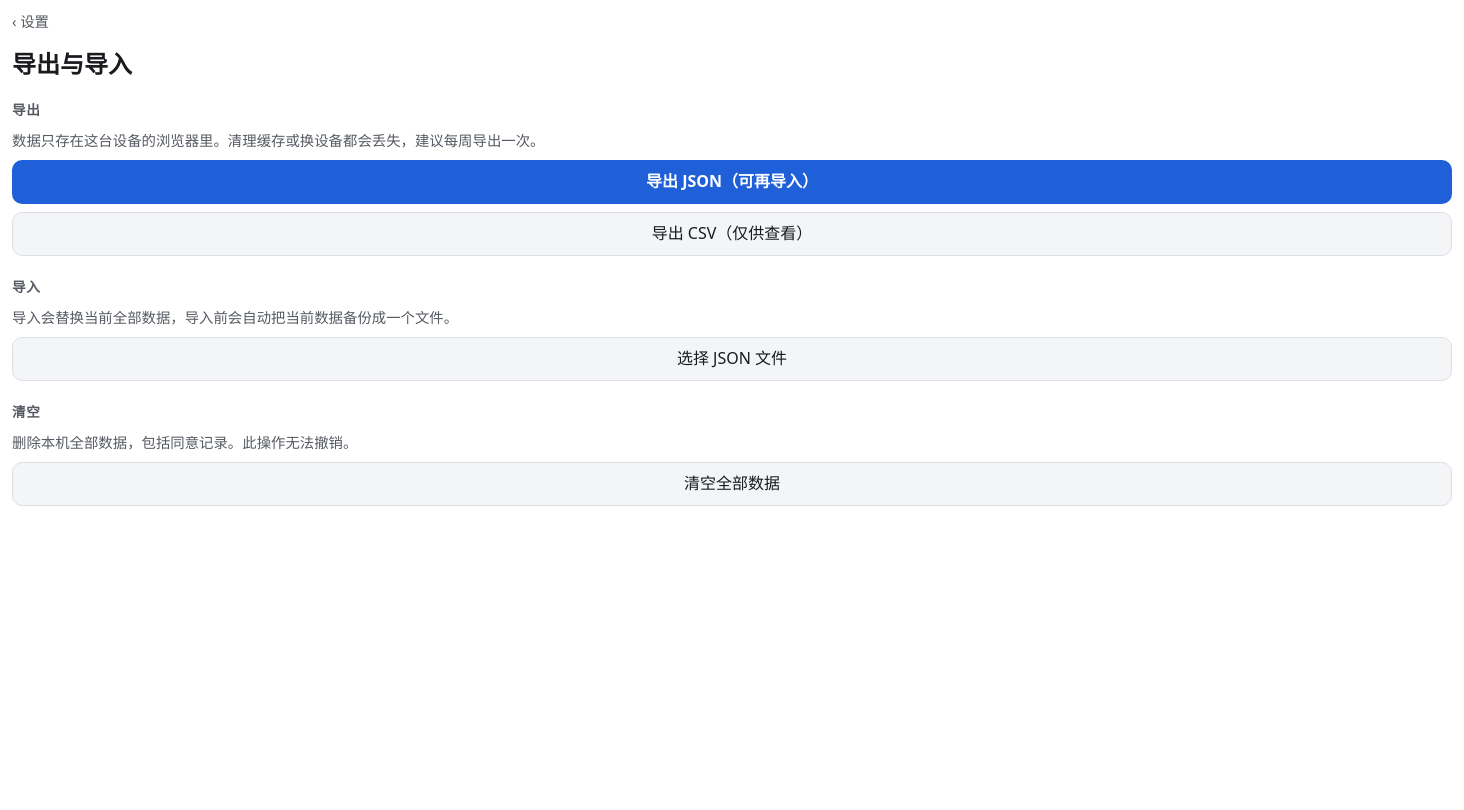
清空 › 确认后清空并告知结果
Click the button "清空全部数据".
click(732, 484)  # box [12,462,1452,506]
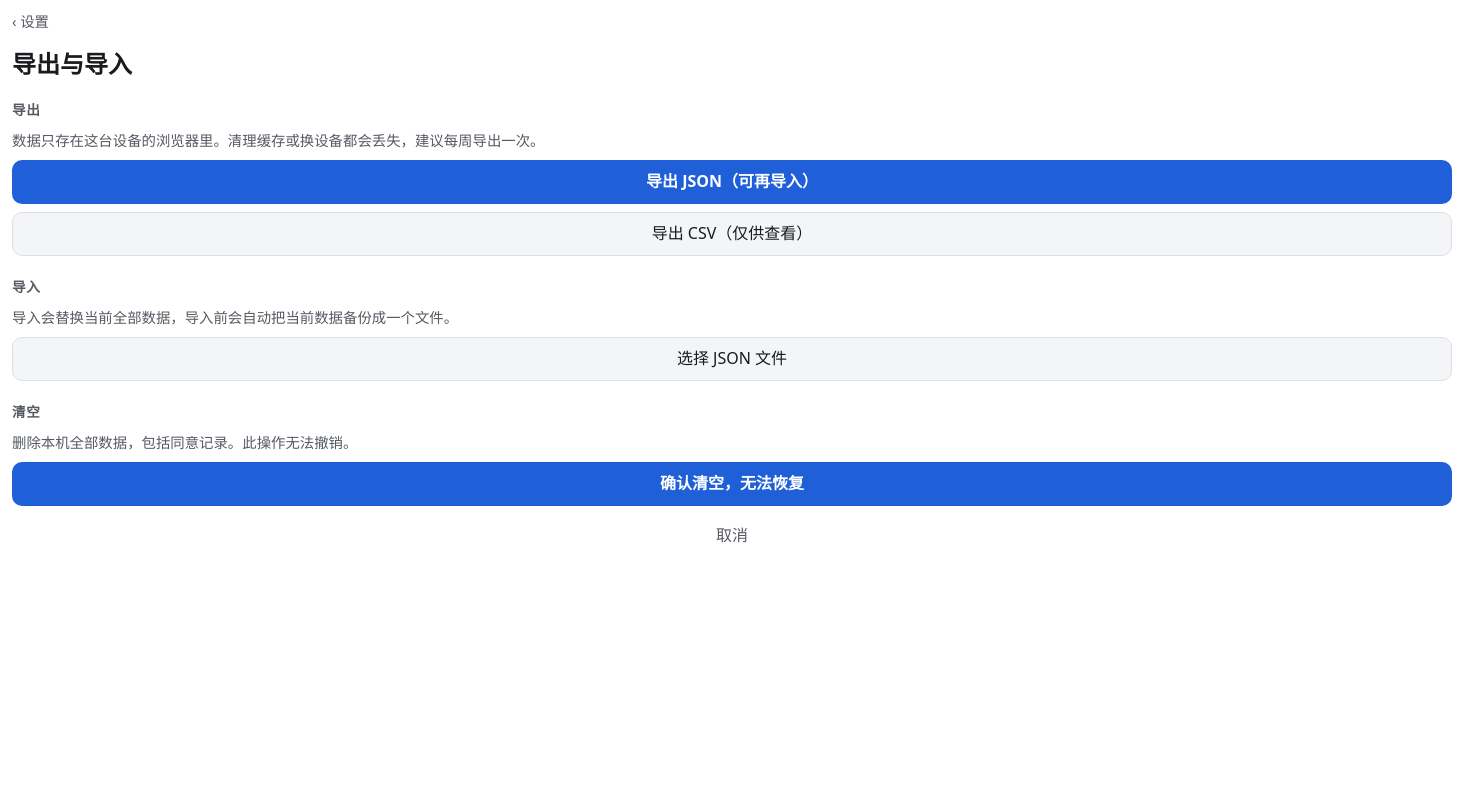
Click the button "确认清空，无法恢复".
click(732, 484)  # box [12,462,1452,506]
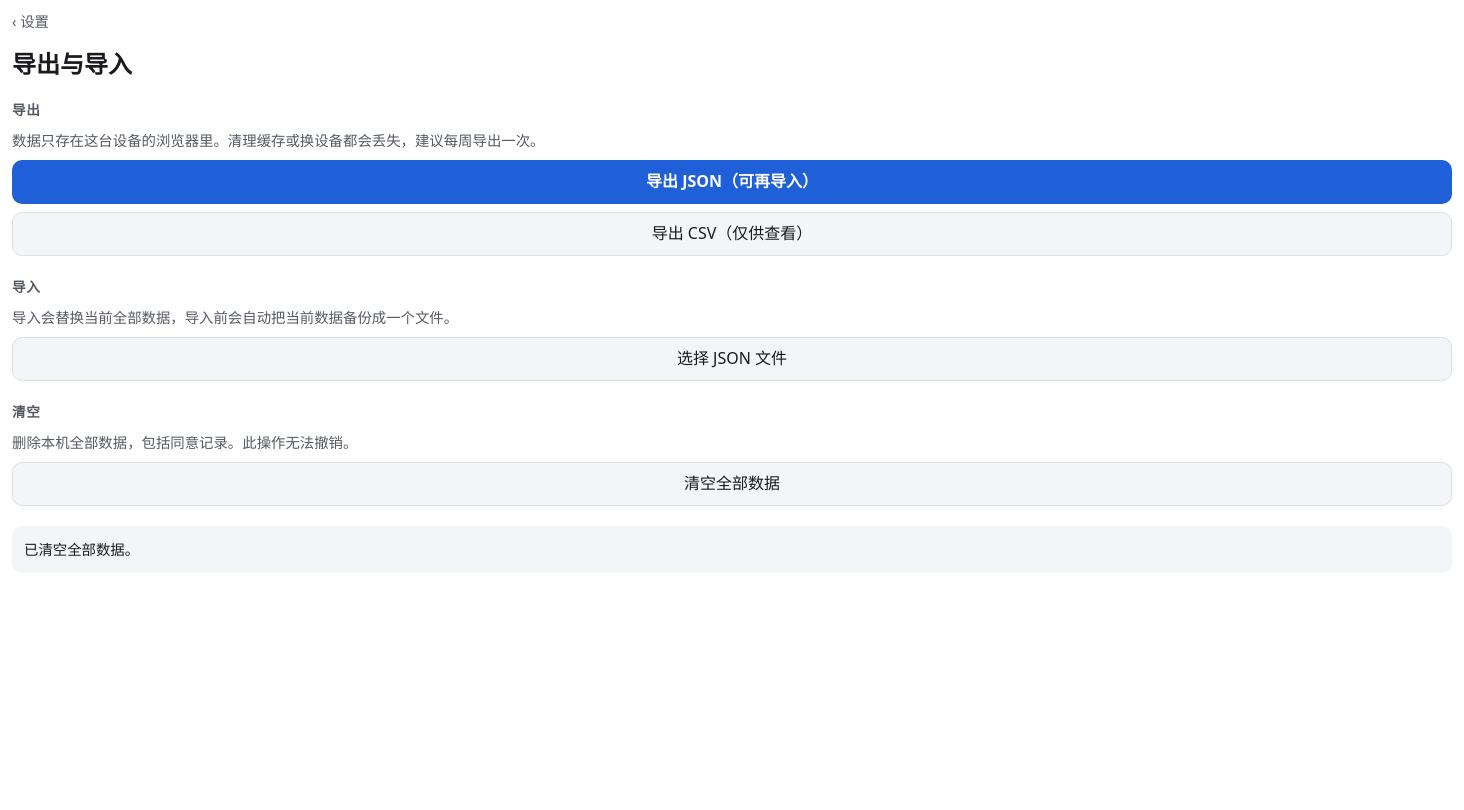
Check: the text "已清空全部数据。" is shown, box [12,526,1452,573]
